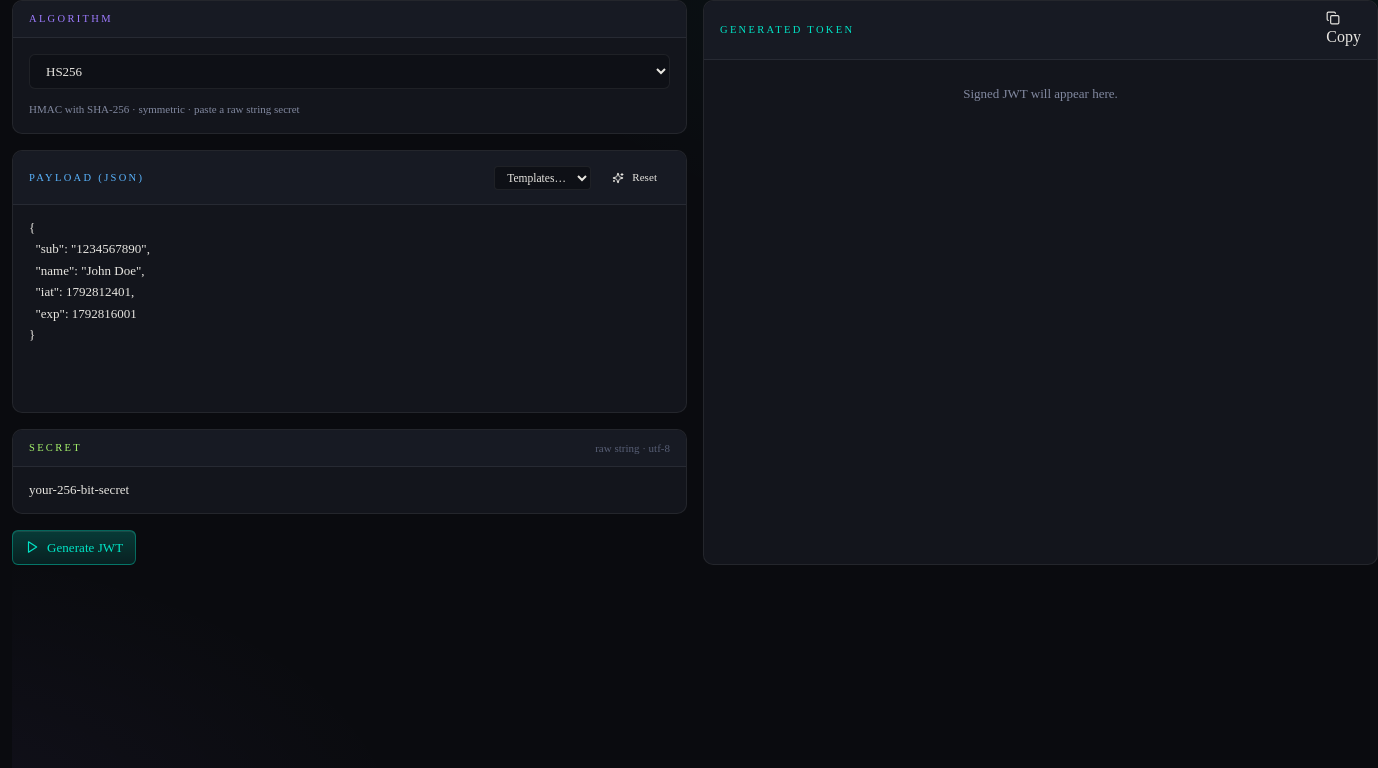
EncoderTab payload validation › rejects the non-object JSON payload [1, 2, 3] without generating a token
Replace the text in the text box named "JWT payload" with "[1, 2, 3]": (350, 305) top-left (13, 205), bottom-right (686, 405)
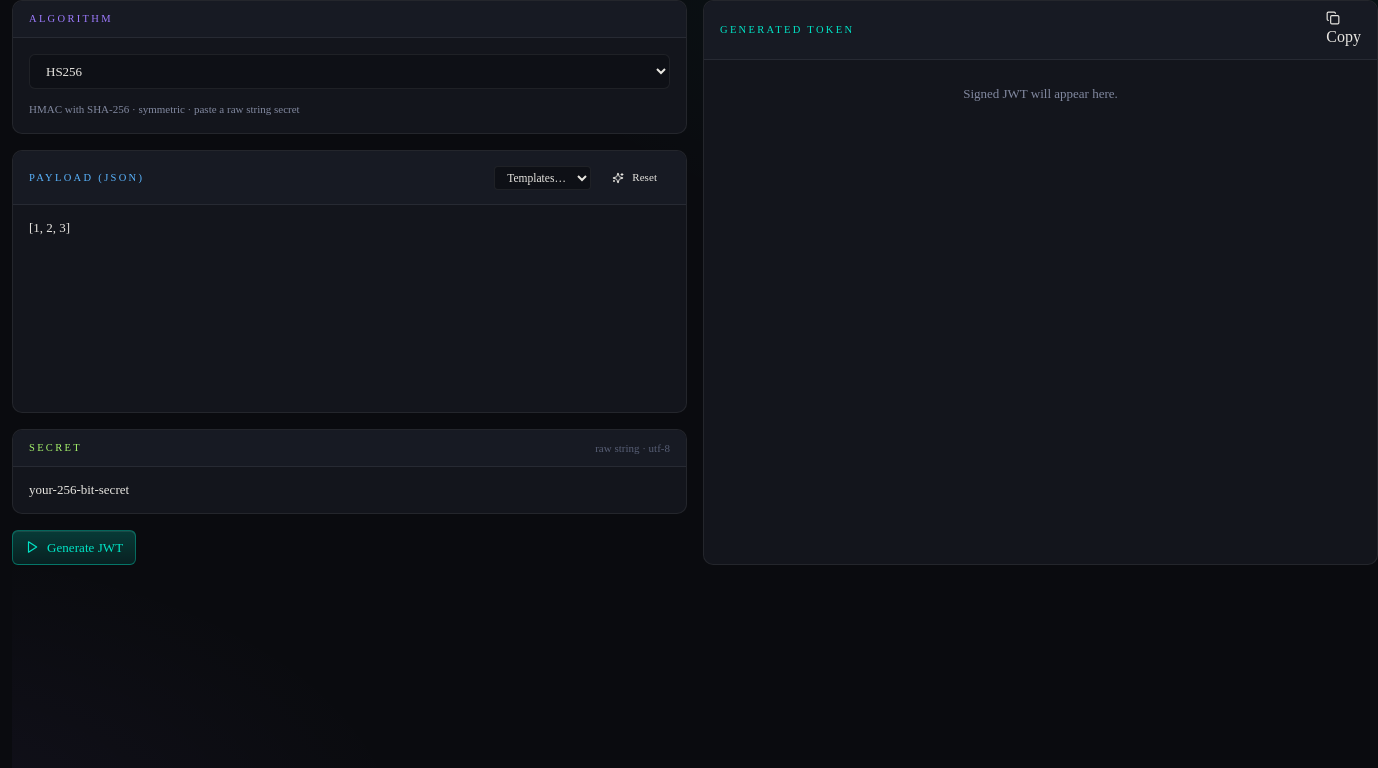
Click the button "Generate JWT": (74, 547) top-left (12, 530), bottom-right (136, 565)
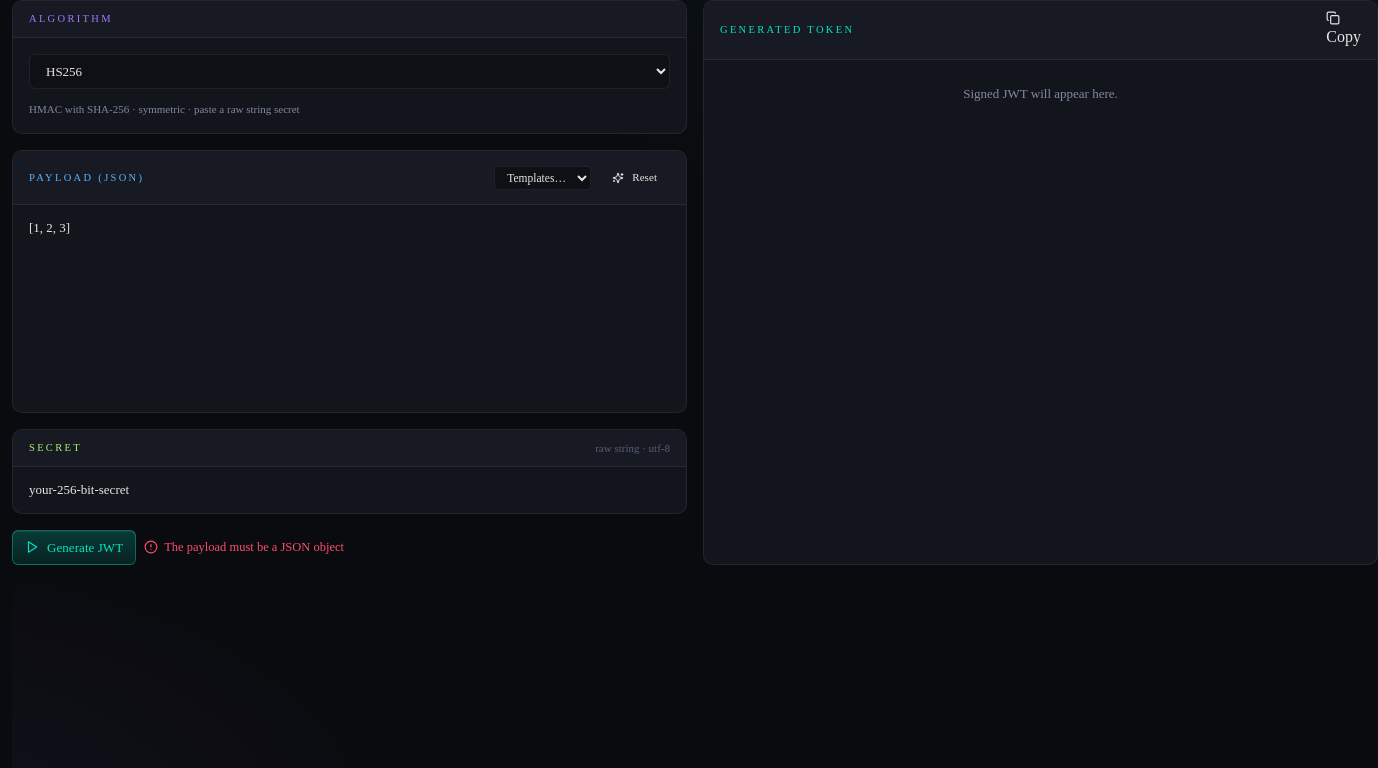
Check: the text "Signed JWT will appear here." is shown, box top-left (963, 86), bottom-right (1118, 101)
Check: the text "The payload must be a JSON object" is shown, box top-left (144, 538), bottom-right (344, 557)
